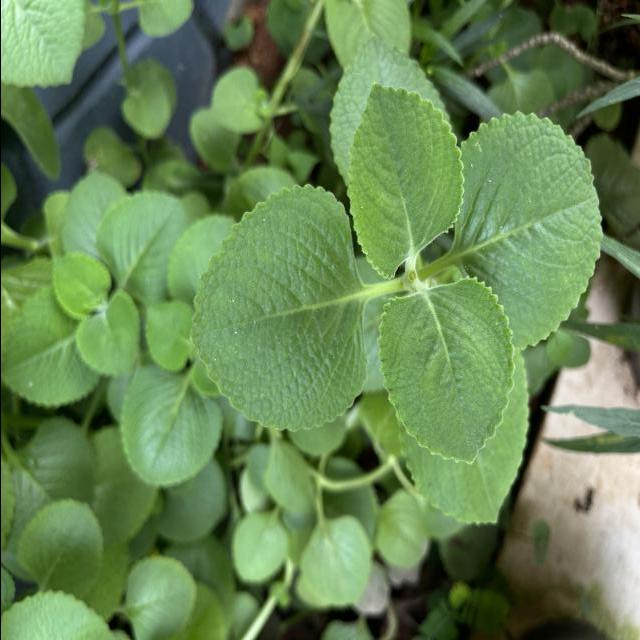Plectranthus barbatus: (187, 182, 370, 434), (456, 110, 605, 351), (374, 274, 515, 466), (344, 82, 466, 281)
